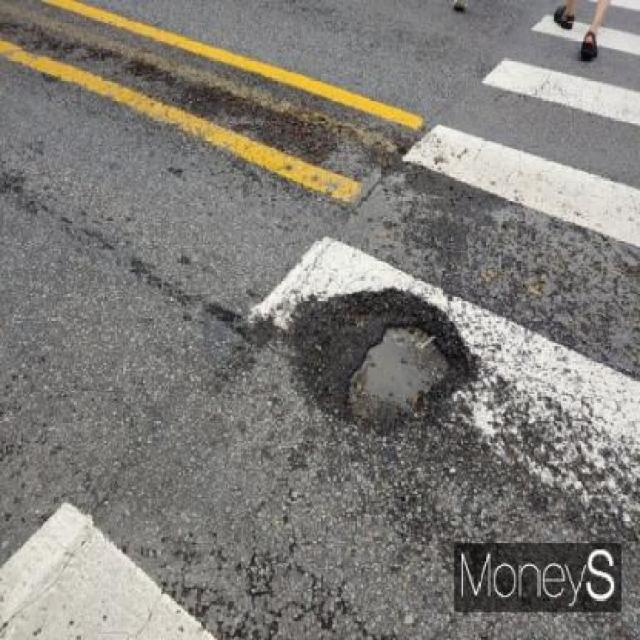Pothole: (292, 281, 492, 447)
